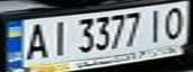3: (72, 16, 96, 54), (90, 12, 112, 52)
7: (109, 11, 130, 48), (124, 9, 145, 46)
A: (21, 20, 51, 61)
I: (45, 18, 72, 57), (142, 6, 169, 42)
O: (160, 3, 190, 41)
